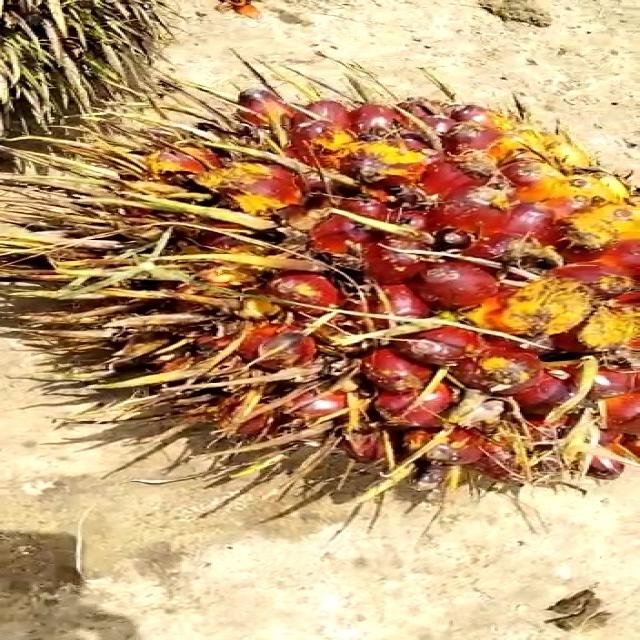palm oil: (12, 74, 640, 484)
